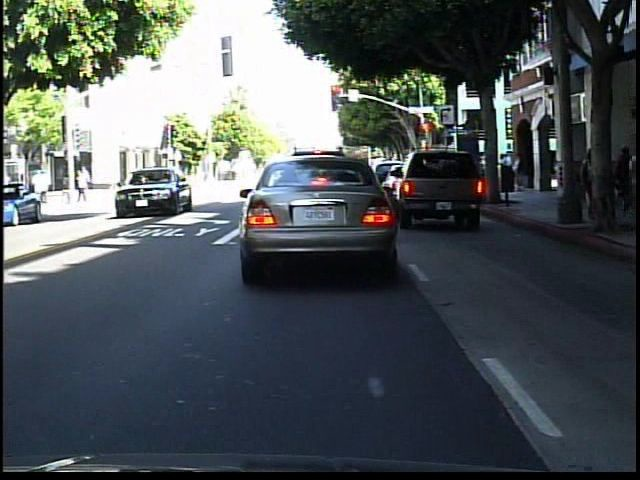person: (614, 141, 639, 219), (577, 144, 601, 225), (614, 143, 636, 212), (76, 163, 95, 206), (77, 163, 93, 197), (60, 172, 73, 206)
